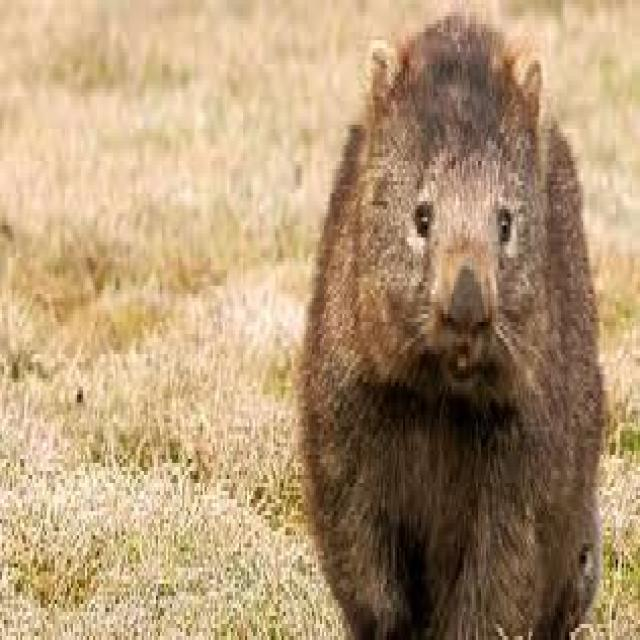Wombat: (290, 12, 607, 640)
